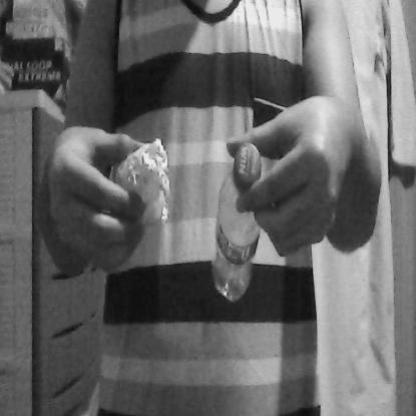Plastic Bottle: (206, 135, 268, 312)
